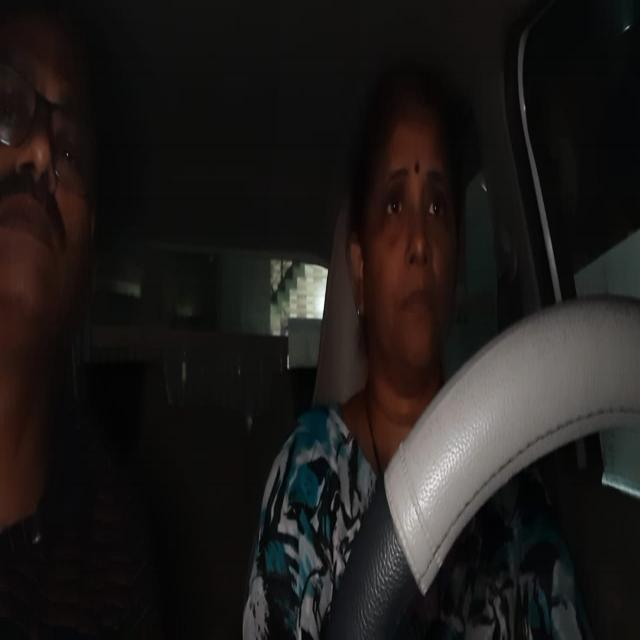person: (1, 4, 113, 361), (349, 90, 472, 386)
